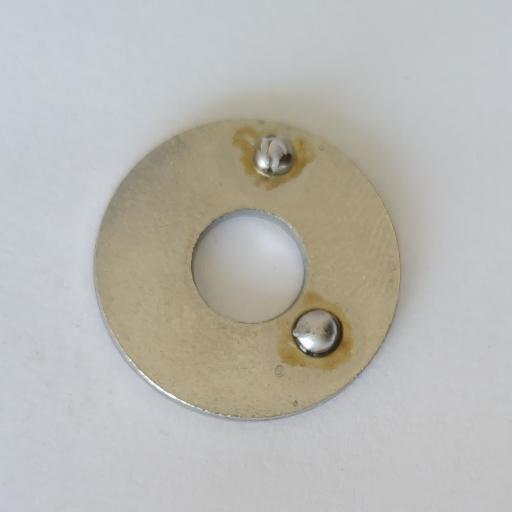excess_material: (292, 307, 343, 358), (253, 134, 297, 177)
